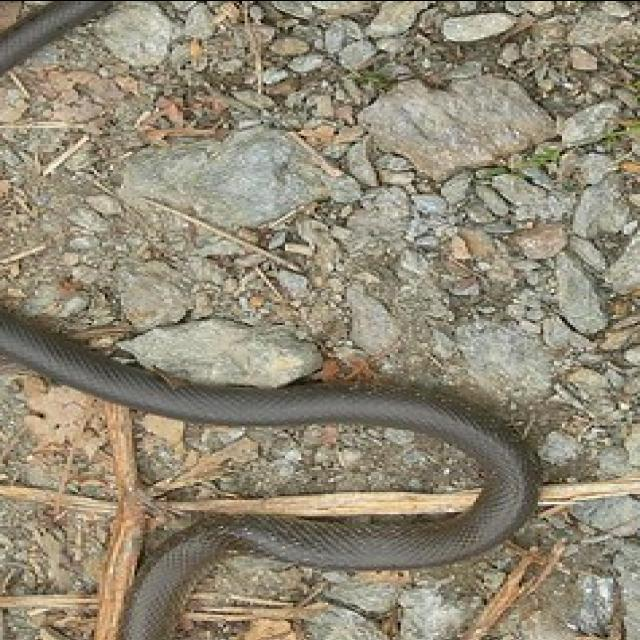snake: (1, 0, 540, 640)
